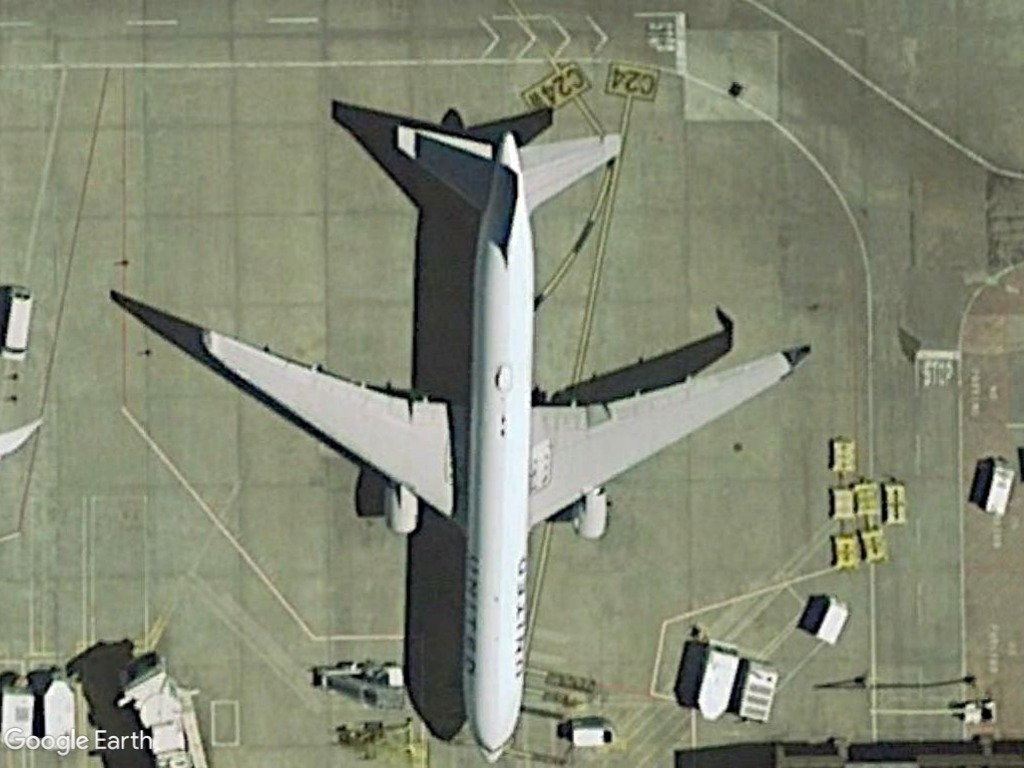airliner: (188, 105, 801, 768)
